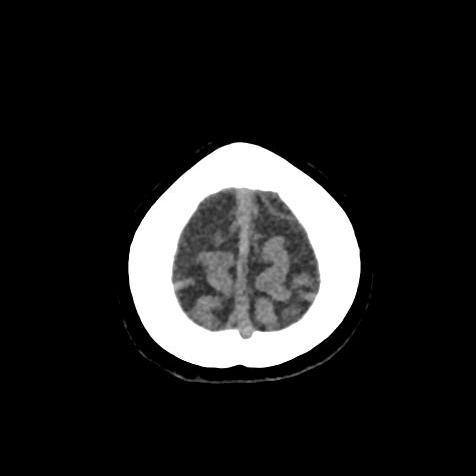Normal_Brain: (65, 120, 403, 476)
